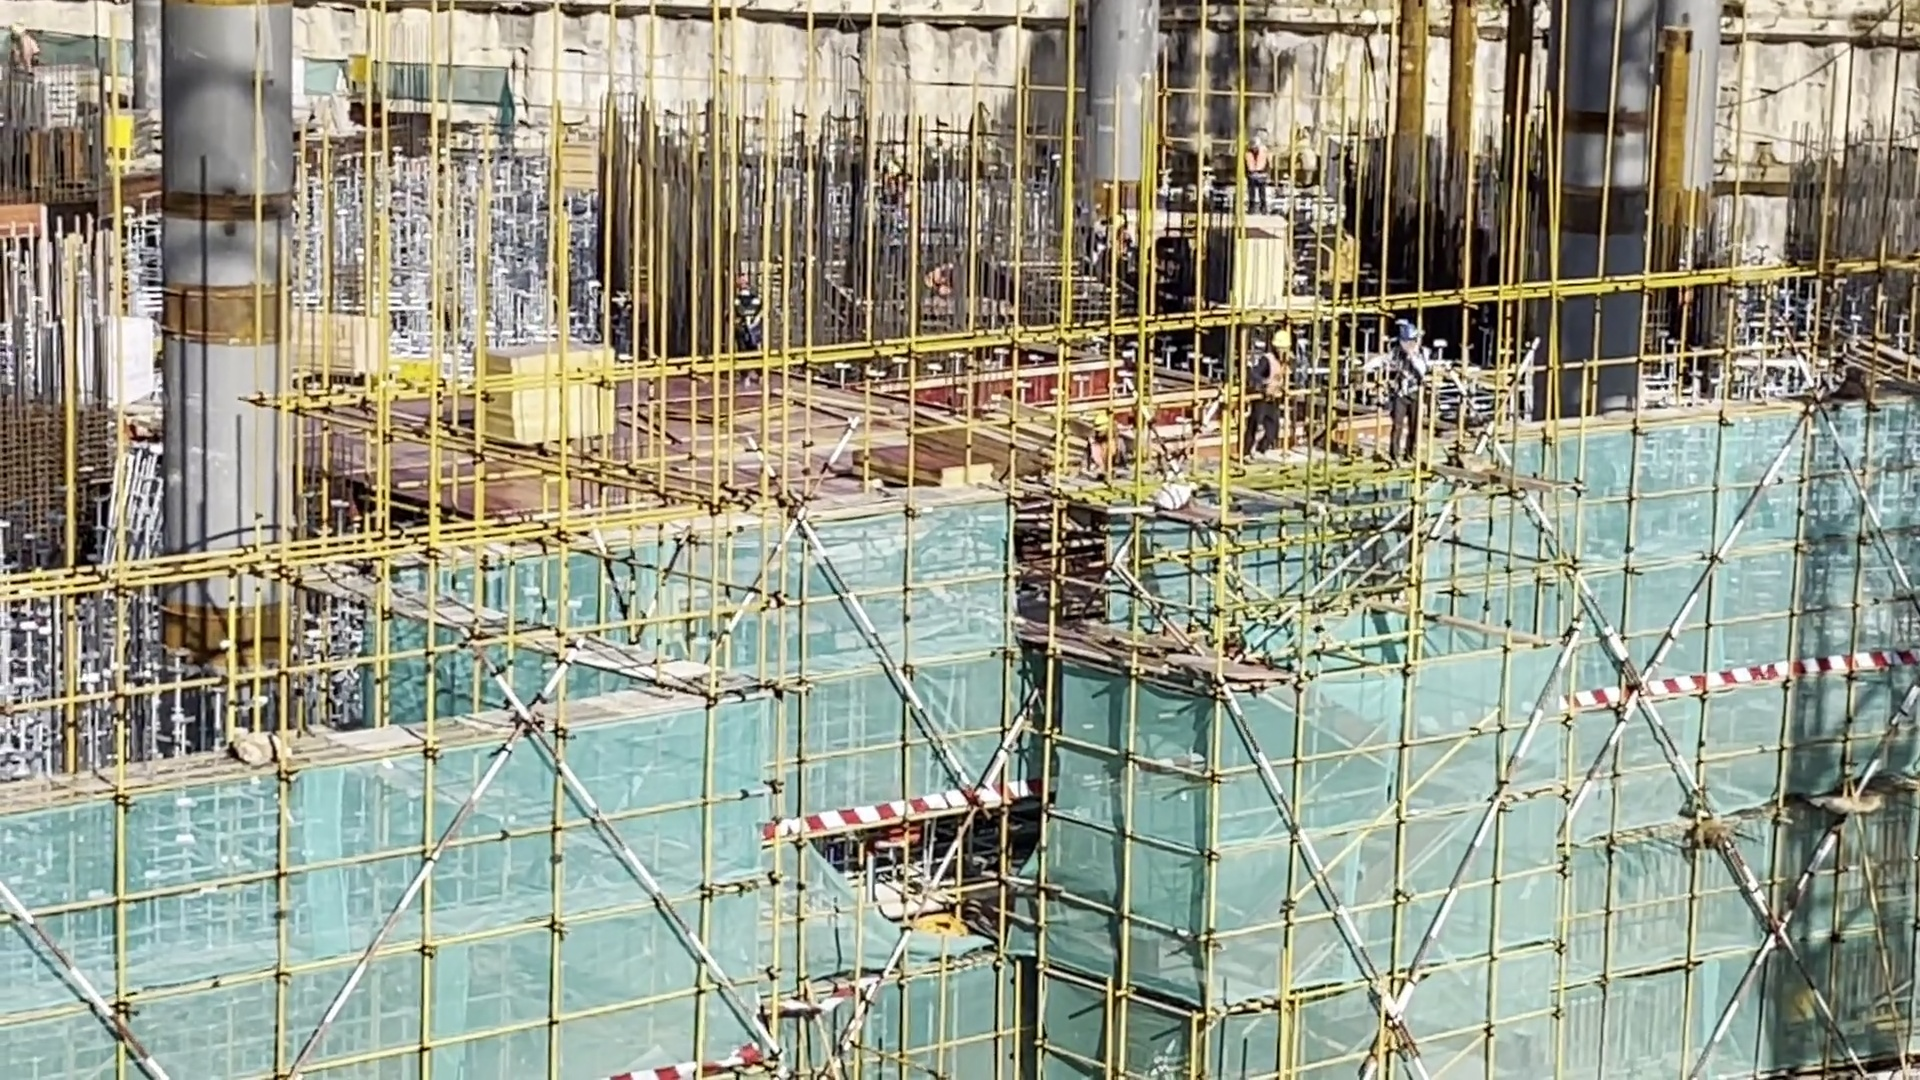helmet: (1398, 321, 1425, 349), (579, 272, 602, 299), (1092, 411, 1111, 428), (1270, 332, 1291, 348), (9, 16, 25, 34), (1252, 136, 1265, 152), (1117, 216, 1125, 225), (951, 264, 959, 272)
person: (578, 268, 646, 368), (1385, 313, 1425, 476), (725, 269, 768, 396), (1099, 194, 1153, 292), (1247, 330, 1283, 443), (1239, 123, 1268, 220), (1083, 420, 1127, 477), (914, 254, 961, 292), (4, 33, 41, 60)
vest: (1256, 357, 1293, 402), (1110, 208, 1132, 283), (1076, 441, 1122, 464), (1388, 352, 1414, 392), (735, 301, 758, 342), (10, 36, 38, 64), (611, 292, 636, 323), (1247, 149, 1269, 186), (923, 271, 947, 298)
